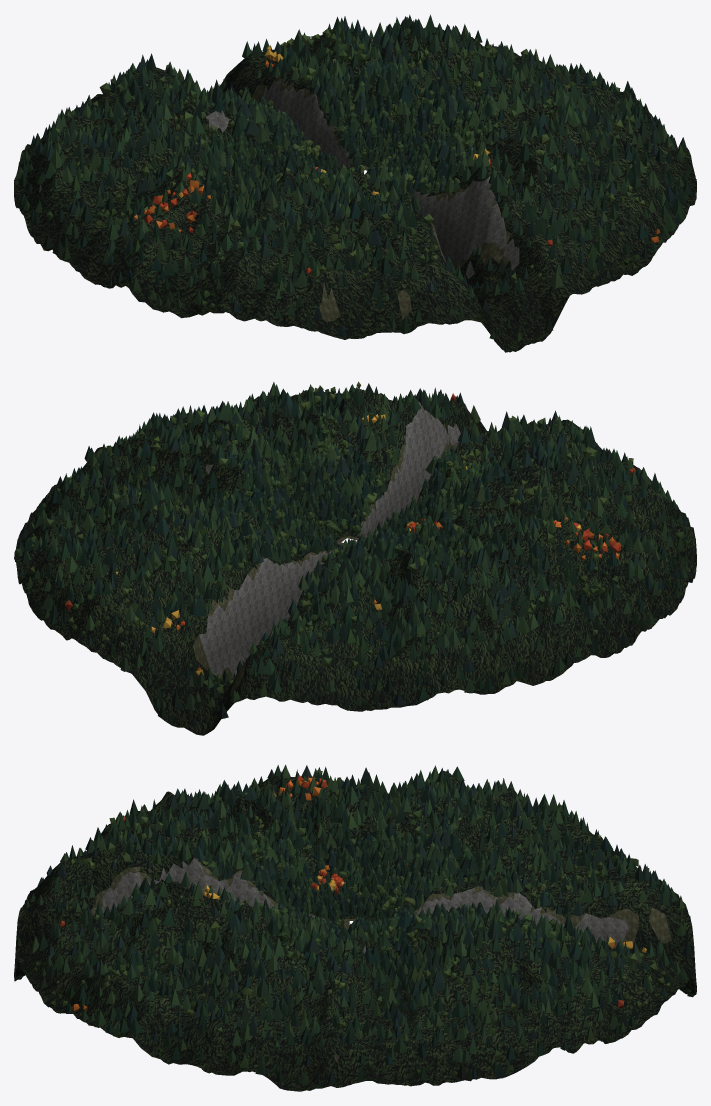
Rendered from backdrop_near_rect_duneW_summer.glb.
3 renders of one model, top to bottom at view 1: azimuth 30°, elevation 25°; view 2: azimuth 150°, elevation 25°; view 3: azimuth 270°, elevation 25°, orthographic.
Visible parts, largest first — view 1: near_land_S, trees_land_W_0, near_land_W, trees_land_S_0, trees_land_E_0, trees_land_N_0, near_land_E, near_land_N; view 2: near_land_N, trees_land_N_0, near_land_W, trees_land_W_0, trees_land_E_0, trees_land_S_0, near_land_S, near_land_E; view 3: near_land_E, trees_land_E_0, trees_land_W_0, trees_land_N_0, near_land_S, trees_land_S_0, near_land_N, near_land_W.
Part boxes in pixels (x1,y1,x2,y2): near_land_S: (266, 125, 685, 352); trees_land_W_0: (14, 97, 333, 312); near_land_W: (14, 103, 334, 321); trees_land_S_0: (271, 119, 682, 352); trees_land_E_0: (361, 18, 692, 219); trees_land_N_0: (31, 14, 434, 169); near_land_E: (361, 27, 696, 218); near_land_N: (25, 27, 435, 170); near_land_N: (26, 509, 446, 735); trees_land_N_0: (38, 498, 438, 726); near_land_W: (393, 462, 696, 694); trees_land_W_0: (383, 450, 693, 693); trees_land_E_0: (14, 382, 349, 589); trees_land_S_0: (274, 381, 678, 536); near_land_S: (276, 388, 680, 538); near_land_E: (14, 394, 354, 593); near_land_E: (115, 907, 597, 1091); trees_land_E_0: (113, 898, 594, 1085); trees_land_W_0: (142, 764, 568, 917); trees_land_N_0: (372, 807, 694, 1036); near_land_S: (14, 812, 344, 1036); trees_land_S_0: (15, 799, 341, 1033); near_land_N: (368, 814, 696, 1043); near_land_W: (138, 771, 594, 921).
Size of the model in its own units: 577 by 177 by 576.
Materials: 4 (3 with a texture image).
